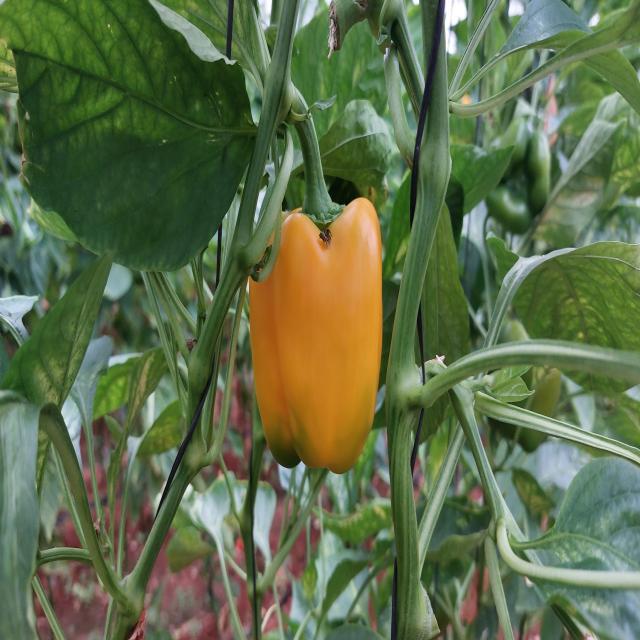Yellow-Ready-to-Harvest: (250, 193, 383, 471)
